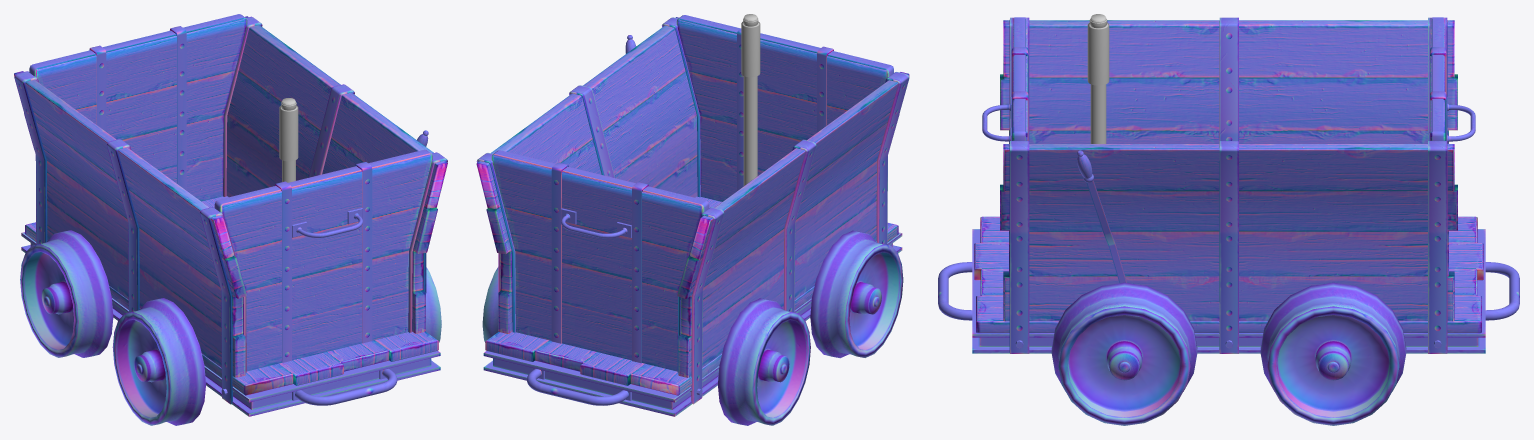
The model's file is SM_Trolley.fbx.
3 views of the same model, side by side, from view 1: azimuth 30°, elevation 25°; view 2: azimuth 150°, elevation 25°; view 3: azimuth 270°, elevation 25° (orthographic). The views are drawn at different scales.
Parts seen in each view (by area): view 1: merge, polySurface10; view 2: merge, polySurface10; view 3: merge, polySurface10.
Part boxes in pixels (x1,y1,x2,y2): merge: [14, 14, 447, 425]; polySurface10: [279, 98, 298, 182]; merge: [476, 15, 909, 425]; polySurface10: [741, 14, 760, 185]; merge: [938, 17, 1519, 425]; polySurface10: [1087, 14, 1109, 143].
Size of the model in its own units: 138 by 144 by 222.
